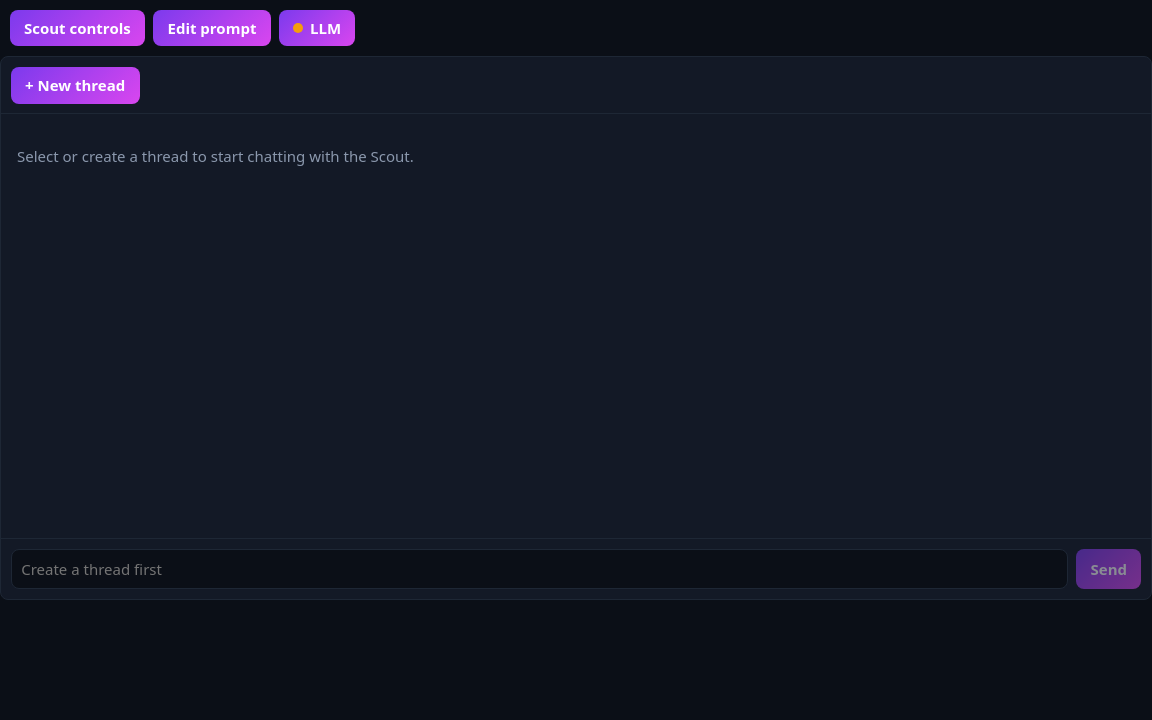
Test case: ScoutHQ › opens the scout controls in a drawer when toggled
expect the text "Start Scout" is not shown: met
Click the button "Scout controls" at (77, 28), box [10,10,145,46]
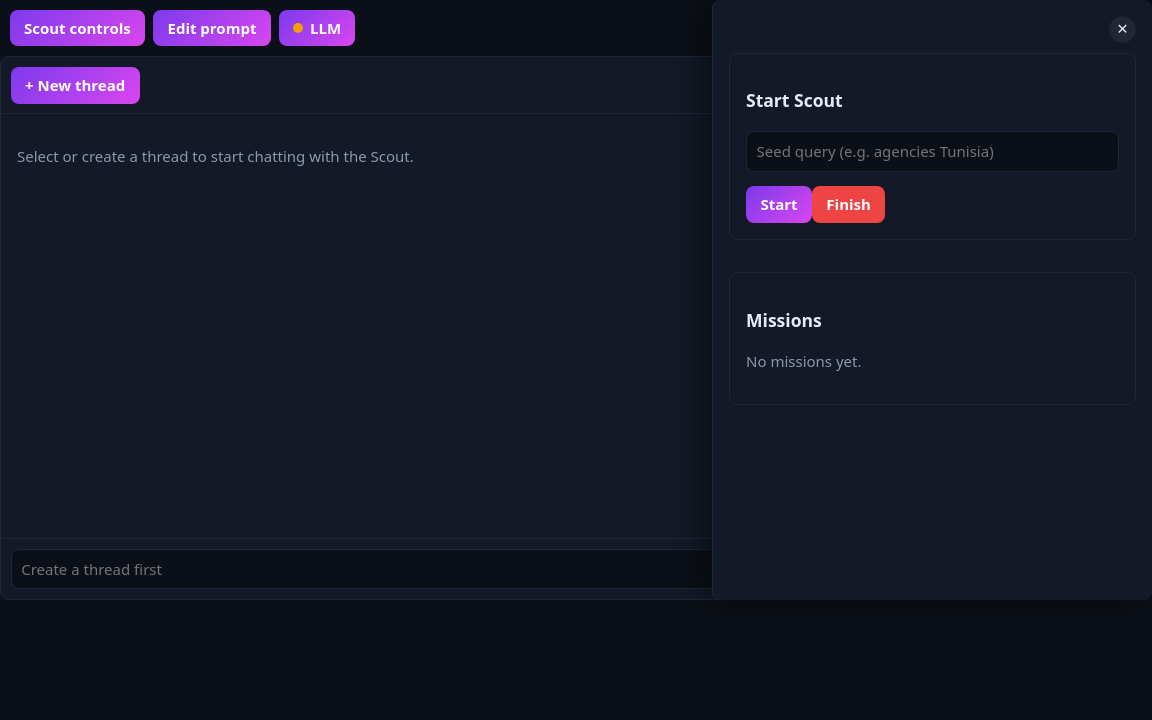
expect the heading "Start Scout" is shown: met, box [746,88,843,112]
Click the button named "Close scout controls" at (1122, 30), box [1109,16,1136,43]
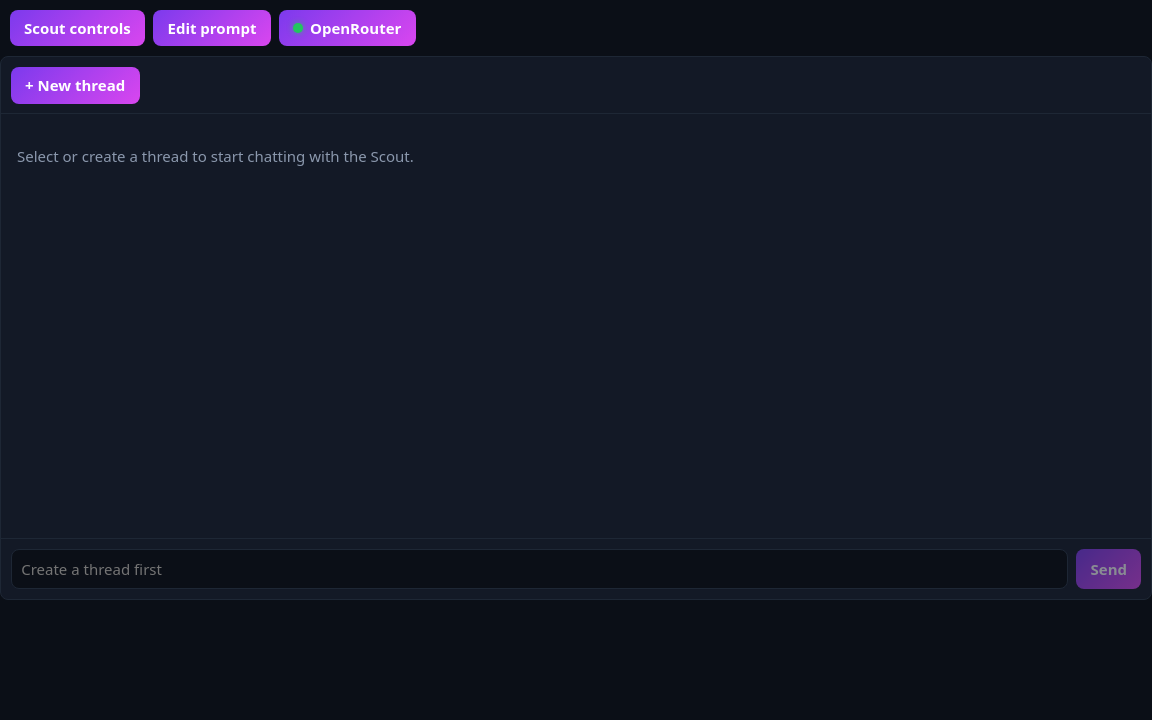
expect the heading "Start Scout" is gone: met
